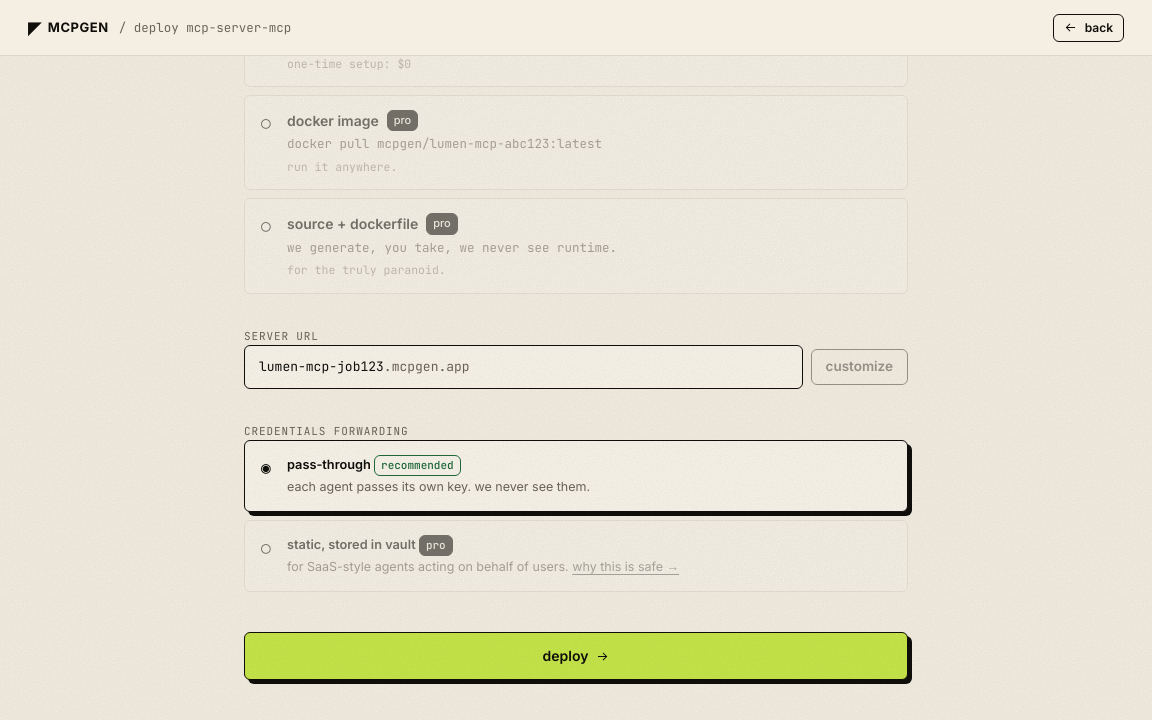
Scenario: <Deploy> › flips into the failure card stack when errorMode === "deploy-fail"
This screenshot has width=1152, height=720.
(page scrolled)
Click the button "deploy" at x=576, y=656, box [244,632,908,680]
(page scrolled)
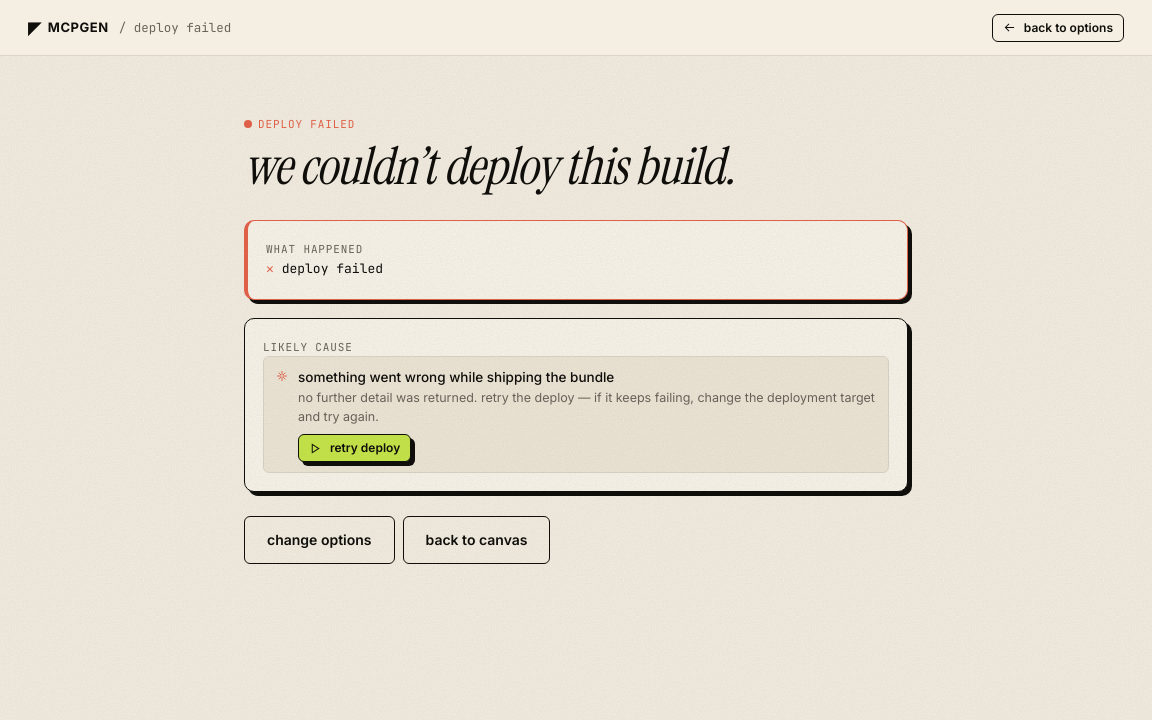
Expected: the text "deploy failed" is shown, [134,19,231,36]
Expected: the text "likely cause" is shown, [263,340,353,354]
Expected: the text "what happened" is shown, [266,242,363,256]
